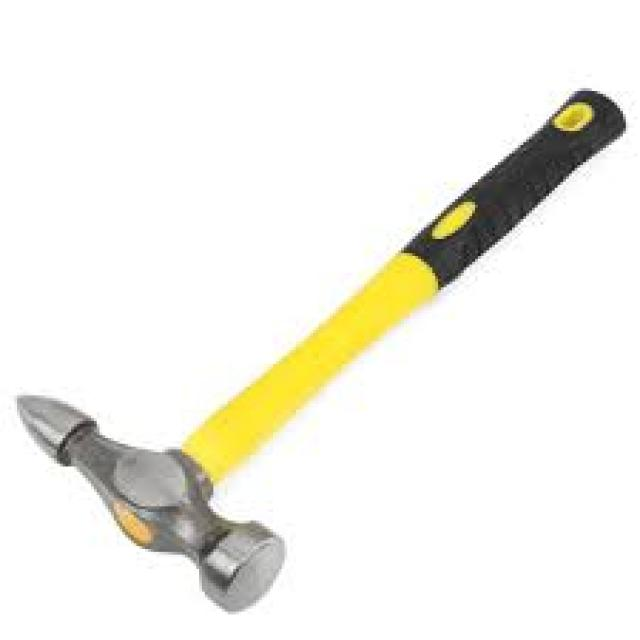hammer: (18, 46, 640, 620)
